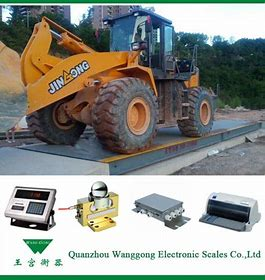Industrial Scale: (13, 117, 263, 177)
